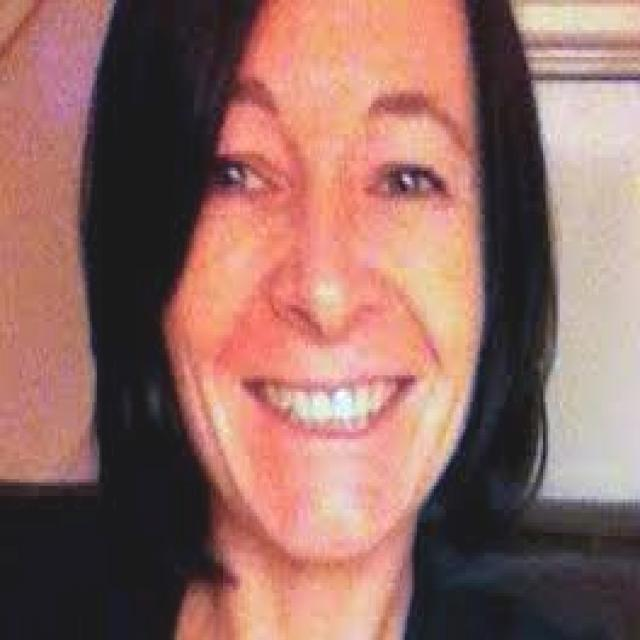normal_face: (87, 0, 525, 563)
